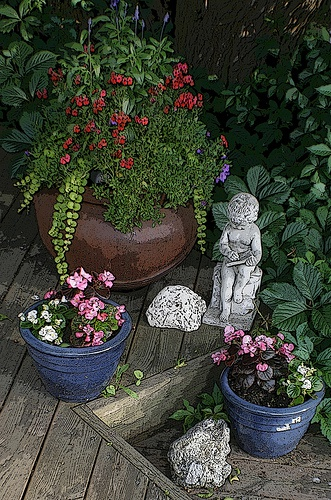flowerpot: (33, 179, 208, 293), (20, 298, 129, 404), (226, 351, 327, 459)
